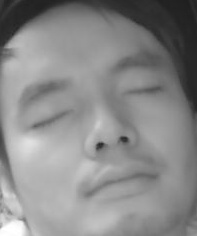blink: (32, 106, 75, 130), (125, 83, 162, 100)
mouth: (80, 158, 160, 201)
